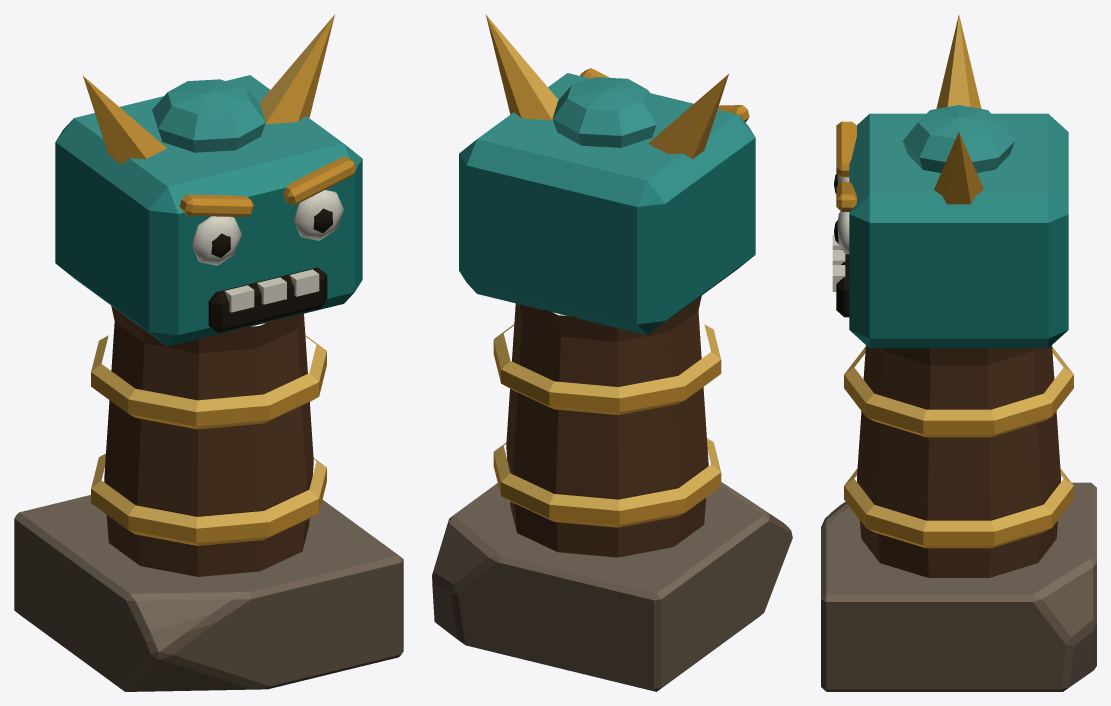
The model's file is totem.glb.
3 renders of one model, left to right at view 1: azimuth 30°, elevation 25°; view 2: azimuth 150°, elevation 25°; view 3: azimuth 270°, elevation 25°, orthographic. The views are drawn at different scales.
Visible parts, largest first — view 1: corps.011; view 2: corps.011; view 3: corps.011.
Boxes of the visible parts, <box> form: corps.011: <box>14,14,403,691</box>; corps.011: <box>432,14,792,691</box>; corps.011: <box>821,15,1096,691</box>.
Bounding box in the file's own units: 1.09 × 2.43 × 1.08.
